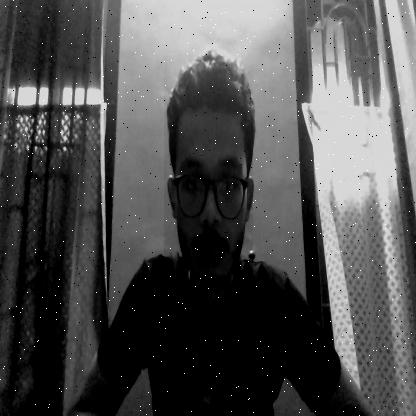Normal: (164, 55, 253, 288)
